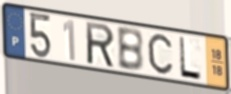1: (62, 19, 76, 63)
5: (27, 10, 52, 59)
B: (115, 26, 146, 74)
C: (146, 32, 174, 76)
L: (178, 34, 204, 82)
R: (84, 20, 116, 70)
